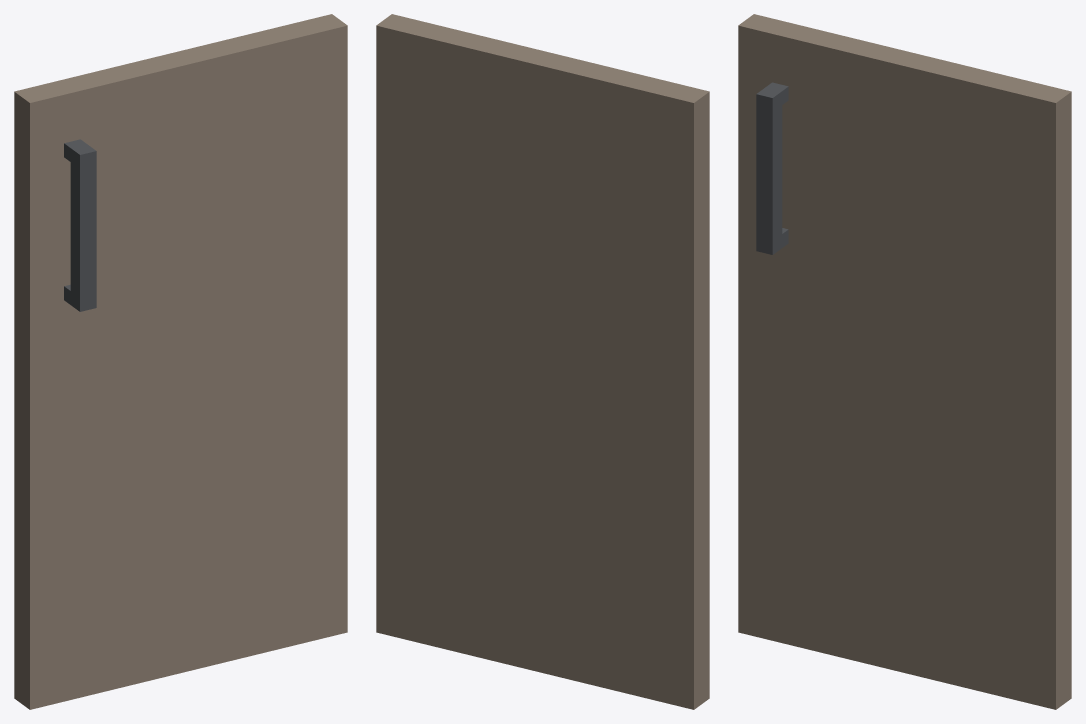
The model's file is Door1_C5_09.fbx.
3 views of the same model, side by side, from view 1: azimuth 30°, elevation 25°; view 2: azimuth 150°, elevation 25°; view 3: azimuth 330°, elevation 25° (orthographic).
Visible parts, largest first — view 1: Door1_C5_09; view 2: Door1_C5_09; view 3: Door1_C5_09.
Boxes of the visible parts, x1,y1,x2,y2 form: Door1_C5_09: (14, 14, 347, 709); Door1_C5_09: (376, 14, 709, 709); Door1_C5_09: (738, 14, 1071, 709).
Bounding box in the file's own units: 29 × 52.92 × 5.03.
